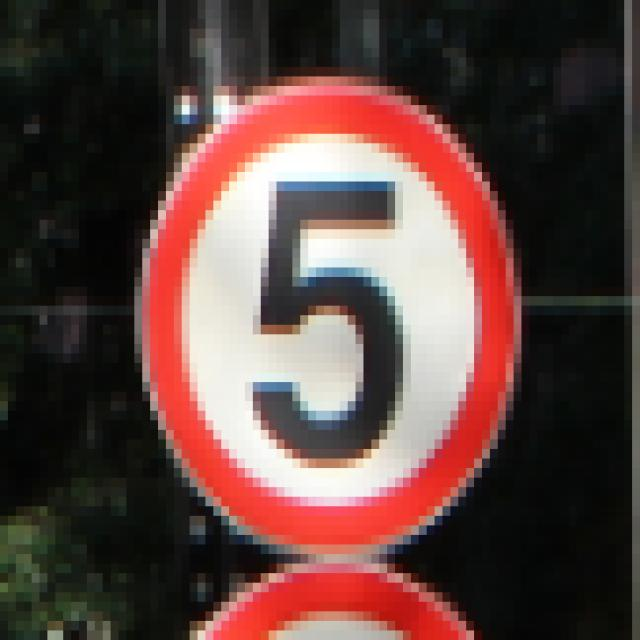Speed: (128, 55, 558, 562)
